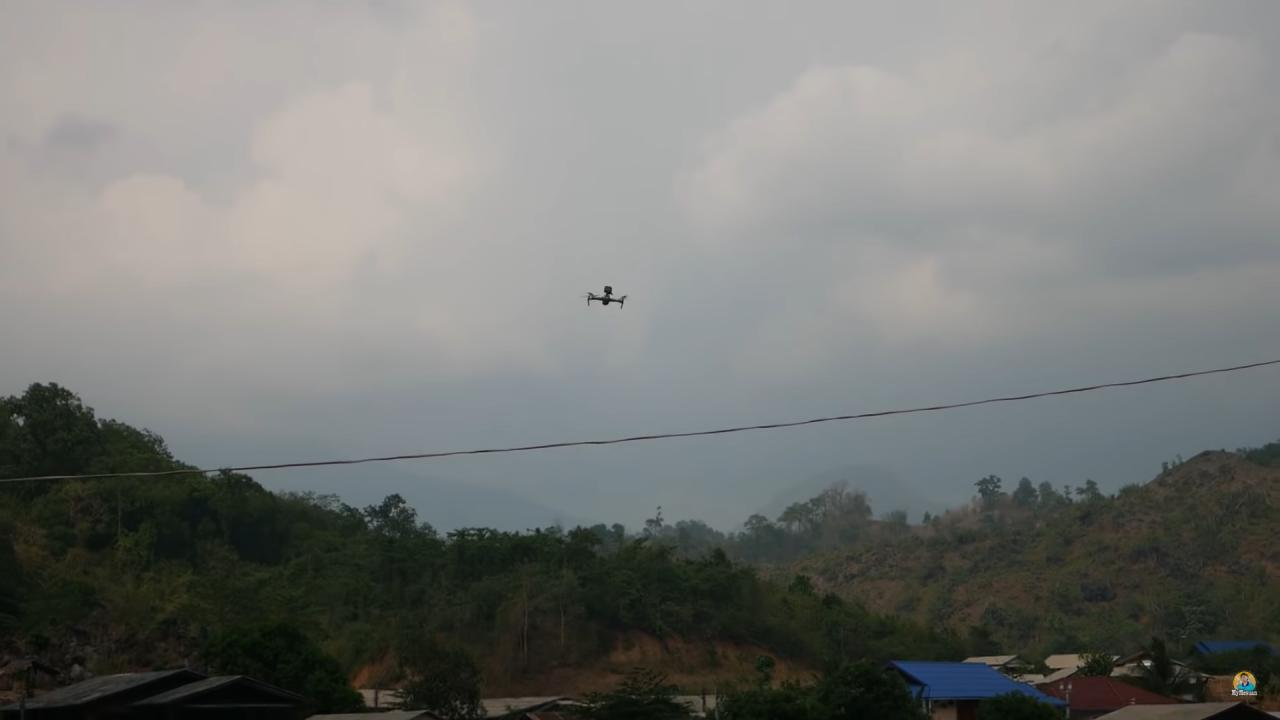Drone: (581, 276, 631, 314)
